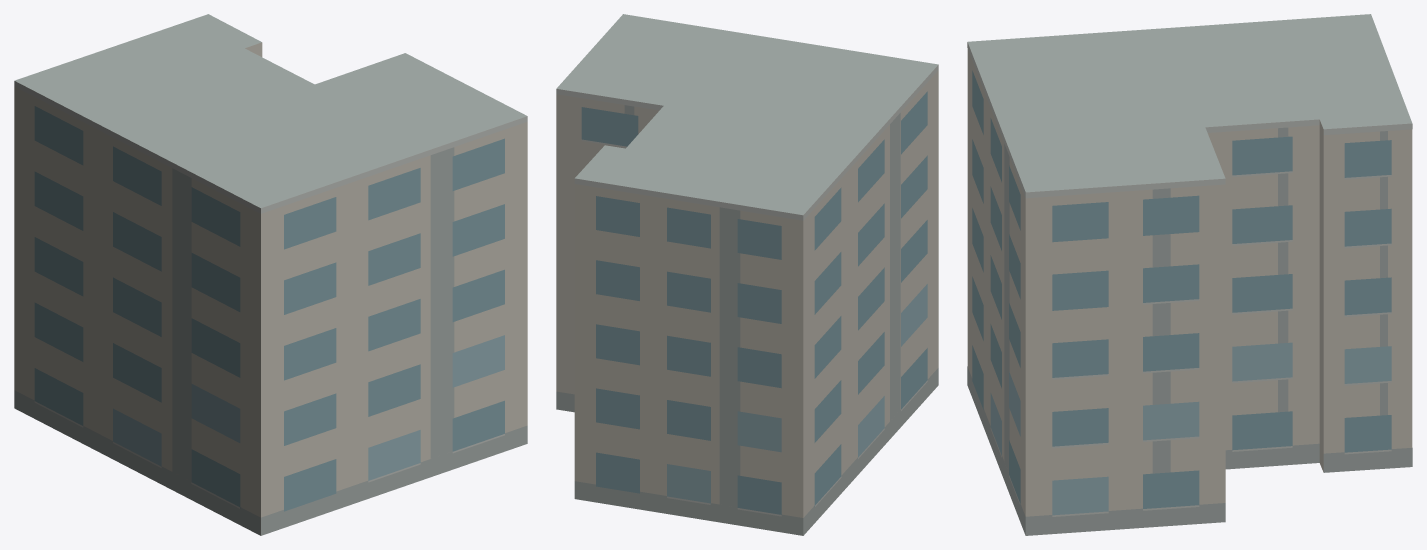
File: survey-upis-32575503.glb
3 views of the same model, side by side, from view 1: azimuth 30°, elevation 25°; view 2: azimuth 150°, elevation 25°; view 3: azimuth 270°, elevation 25° (orthographic). The views are drawn at different scales.
Parts seen in each view (by area): view 1: survey-upis-32575503.tmp; view 2: survey-upis-32575503.tmp; view 3: survey-upis-32575503.tmp.
Part boxes in pixels (x1,y1,x2,y2): survey-upis-32575503.tmp: (14,14,527,535); survey-upis-32575503.tmp: (556,14,938,535); survey-upis-32575503.tmp: (967,14,1412,535).
Bounding box in the file's own units: 15.83 × 14.2 × 16.69.
